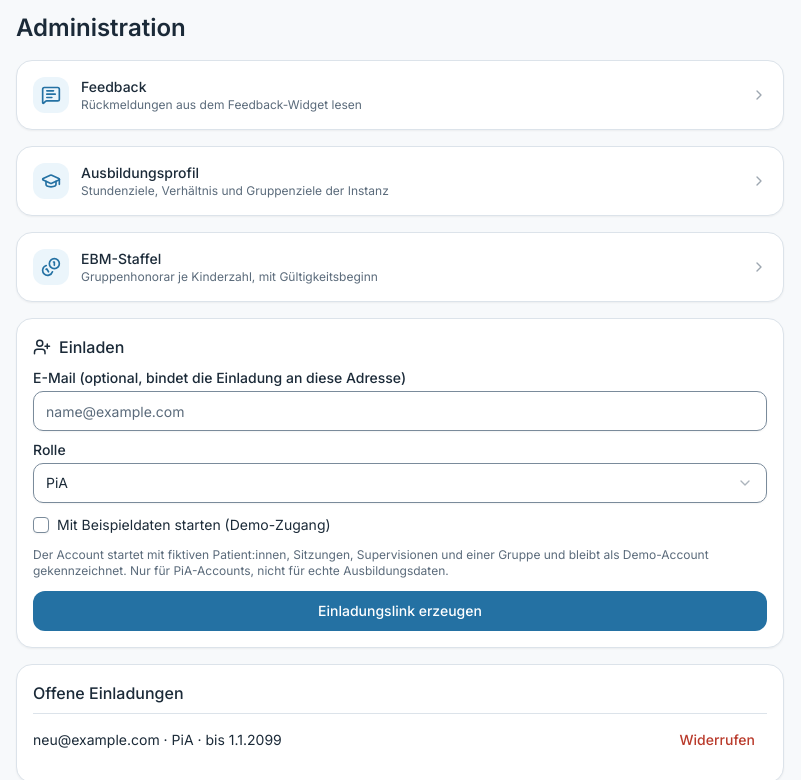
Test case: AdminClient › setzt nach dem Feldfehler der E-Mail den Fokus zurück ins Feld
This screenshot has width=801, height=780.
Type "keine-adresse" into the field labelled "E-Mail (optional, bindet die Einladung an diese Adresse)".
click(400, 411); type("keine-adresse")  # box [33,391,767,431]
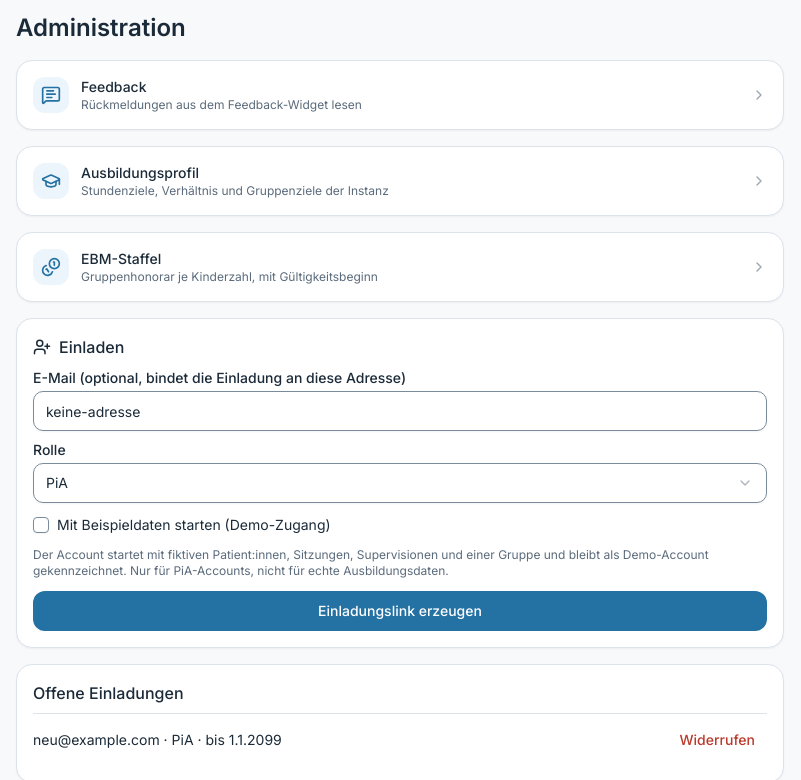
Click the button "Einladungslink erzeugen".
click(400, 611)  # box [33,591,767,631]
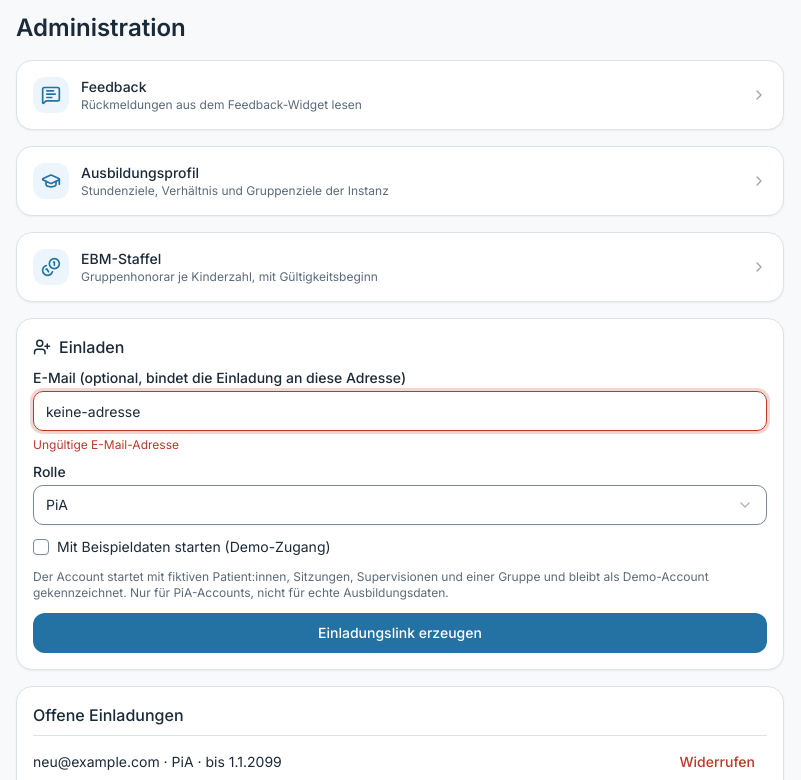
Expected: the field labelled "E-Mail (optional, bindet die Einladung an diese Adresse)" is enabled, [33,391,767,431]
Expected: the text "Ungültige E-Mail-Adresse" is shown, [33,437,179,452]
